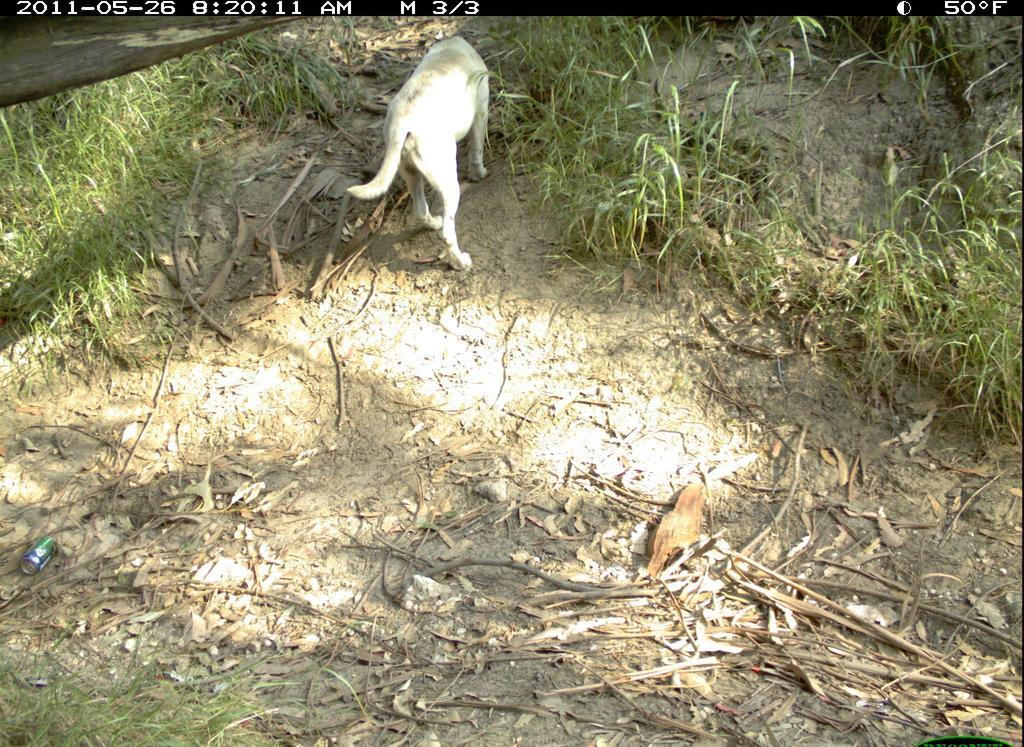dog: (336, 29, 511, 276)
